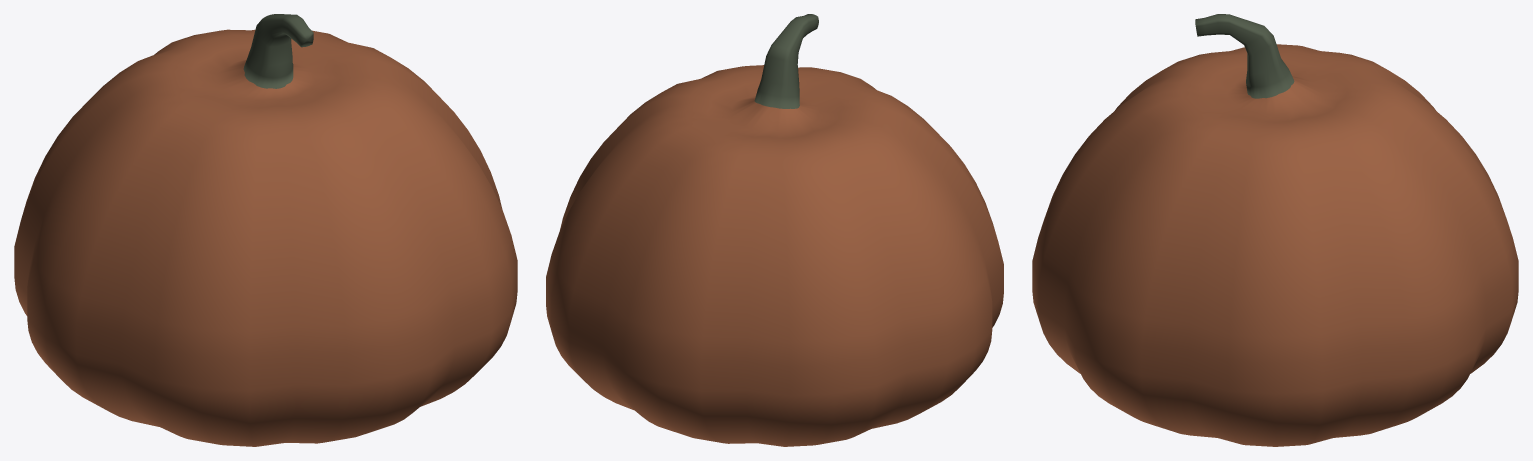
File: pumpkin.fbx
3 views of the same model, side by side, from view 1: azimuth 30°, elevation 25°; view 2: azimuth 150°, elevation 25°; view 3: azimuth 270°, elevation 25° (orthographic). The views are drawn at different scales.
Parts seen in each view (by area): view 1: pSphere1; view 2: pSphere1; view 3: pSphere1.
Boxes of the visible parts, x1=… form: pSphere1: x1=14, y1=14, x2=517, y2=446; pSphere1: x1=546, y1=14, x2=1003, y2=446; pSphere1: x1=1032, y1=14, x2=1518, y2=446.
Bounding box in the file's own units: 8.07 × 6.89 × 8.07.
